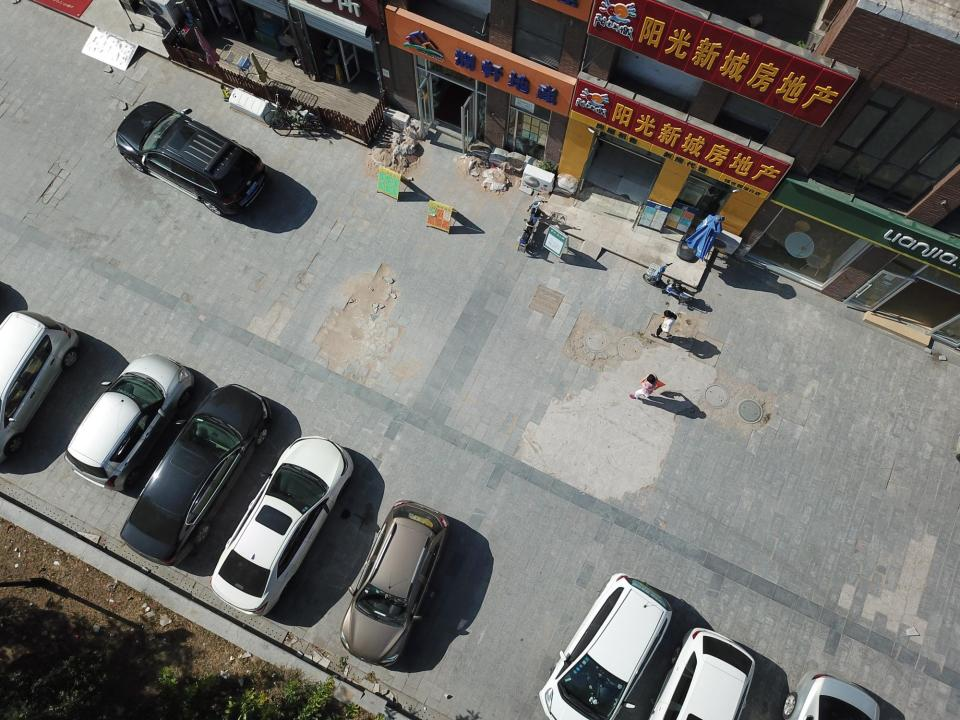car: (119, 381, 271, 568), (211, 435, 353, 614), (537, 570, 670, 720), (65, 353, 196, 495), (339, 498, 447, 666), (115, 101, 266, 215), (648, 625, 754, 720)
van: (0, 308, 79, 466)
